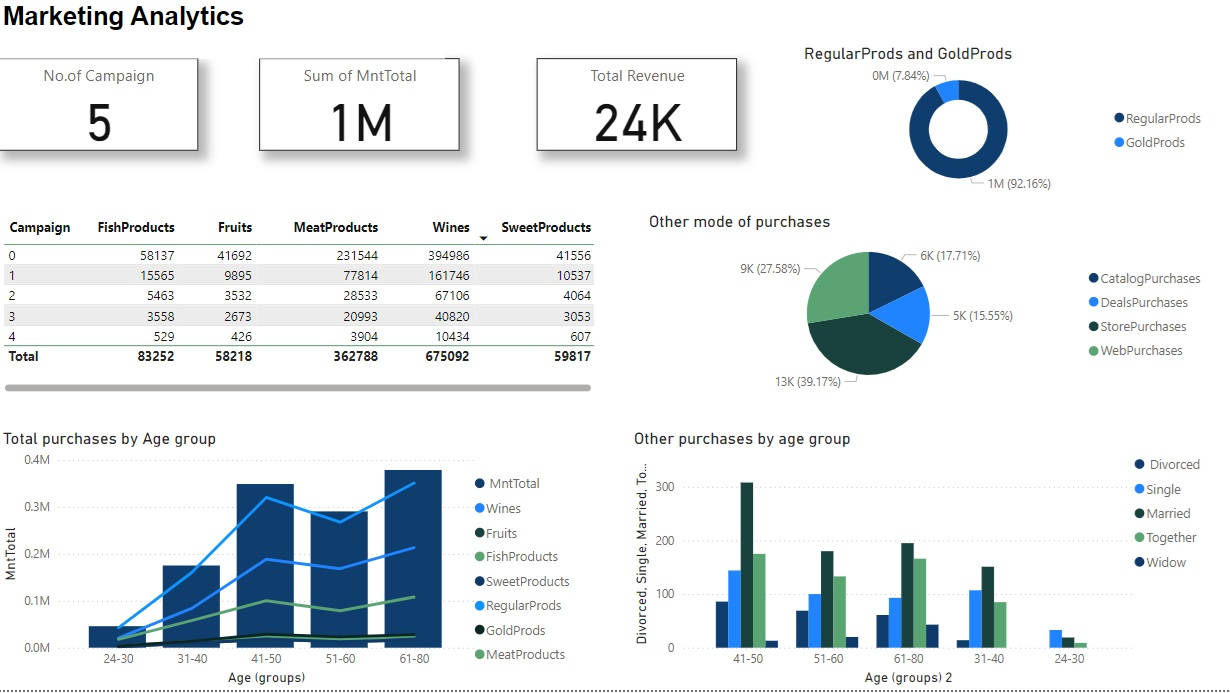

This screenshot's page, from the dashboard's own definition file:
{"tool":"powerbi","page":{"name":"Page 1","canvas":[1280,720],"ordinal":0},"visuals":[{"type":"tableEx","title":" summarise functions in meals products by campaigns","fields":{"Values":["ifood_df.Campaign","Sum(ifood_df.MntFishProducts)","Sum(ifood_df.MntFruits)","Sum(ifood_df.MntMeatProducts)","Sum(ifood_df.MntWines)","Sum(ifood_df.MntSweetProducts)"]},"box":[0,224,624,192],"z":0},{"type":"donutChart","fields":{"Y":["Sum(ifood_df.MntRegularProds)","Sum(ifood_df.MntGoldProds)"]},"box":[832,48,432,160],"z":1000},{"type":"lineStackedColumnComboChart","title":"Total purchases by Age group","fields":{"Y":["Sum(ifood_df.MntTotal)"],"Category":["ifood_df.Age (groups)"],"Y2":["Sum(ifood_df.MntWines)","Sum(ifood_df.MntFruits)","Sum(ifood_df.MntFishProducts)","Sum(ifood_df.MntSweetProducts)","Sum(ifood_df.MntRegularProds)","Sum(ifood_df.MntGoldProds)","Sum(ifood_df.MntMeatProducts)"]},"box":[0,448,608,272],"z":2000},{"type":"lineClusteredColumnComboChart","title":"Other purchases by age group","fields":{"Category":["ifood_df.Age (groups) 2"],"Y":["Sum(ifood_df.marital_Divorced)","Sum(ifood_df.marital_Single)","Sum(ifood_df.marital_Married)","Sum(ifood_df.marital_Together)","Sum(ifood_df.marital_Widow)"]},"box":[656,448,608,272],"z":3000},{"type":"pieChart","title":"Other mode of purchases ","fields":{"Y":["Sum(ifood_df.NumCatalogPurchases)","Sum(ifood_df.NumDealsPurchases)","Sum(ifood_df.NumStorePurchases)","Sum(ifood_df.NumWebPurchases)"]},"box":[672,224,592,192],"z":4000},{"type":"cardVisual","fields":{"Data":["Count(ifood_df.Campaign)"]},"box":[0,64,208,96],"z":4001},{"type":"cardVisual","fields":{"Data":["Sum(ifood_df.MntTotal)"]},"box":[272,64,208,96],"z":4002},{"type":"cardVisual","fields":{"Data":["Sum(ifood_df.Z_Revenue)"]},"box":[560,64,208,96],"z":4003},{"type":"textbox","box":[0,0,464,64],"z":4004}]}

Visuals, with their boxes in screenshot pixels (x1, y1, x2, y2), scaled from the page's 1280x720 canvas onto the 1230x693 screenshot:
" summarise functions in meals products by campaigns" tableEx: {"left": 0, "top": 216, "right": 600, "bottom": 400}
donutChart - Sum(ifood_df.MntRegularProds) x Sum(ifood_df.MntGoldProds): {"left": 800, "top": 46, "right": 1215, "bottom": 200}
"Total purchases by Age group" lineStackedColumnComboChart: {"left": 0, "top": 431, "right": 584, "bottom": 692}
"Other purchases by age group" lineClusteredColumnComboChart: {"left": 630, "top": 431, "right": 1215, "bottom": 692}
"Other mode of purchases " pieChart: {"left": 646, "top": 216, "right": 1215, "bottom": 400}
cardVisual - Count(ifood_df.Campaign): {"left": 0, "top": 62, "right": 200, "bottom": 154}
cardVisual - Sum(ifood_df.MntTotal): {"left": 261, "top": 62, "right": 461, "bottom": 154}
cardVisual - Sum(ifood_df.Z_Revenue): {"left": 538, "top": 62, "right": 738, "bottom": 154}
textbox: {"left": 0, "top": 0, "right": 446, "bottom": 62}
